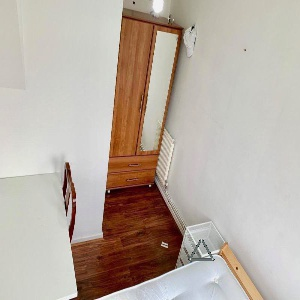triangle: (186, 236, 217, 264)
